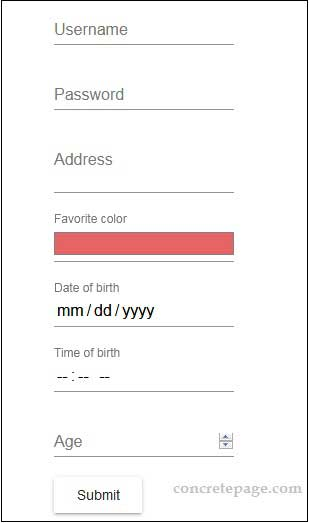_form_: (1, 107, 309, 523), (1, 1, 309, 416)
button: (51, 477, 146, 516)
field_line: (50, 153, 235, 196), (51, 296, 235, 329), (50, 16, 235, 48), (50, 81, 234, 113), (49, 364, 238, 394)
select_line: (50, 429, 238, 459)
